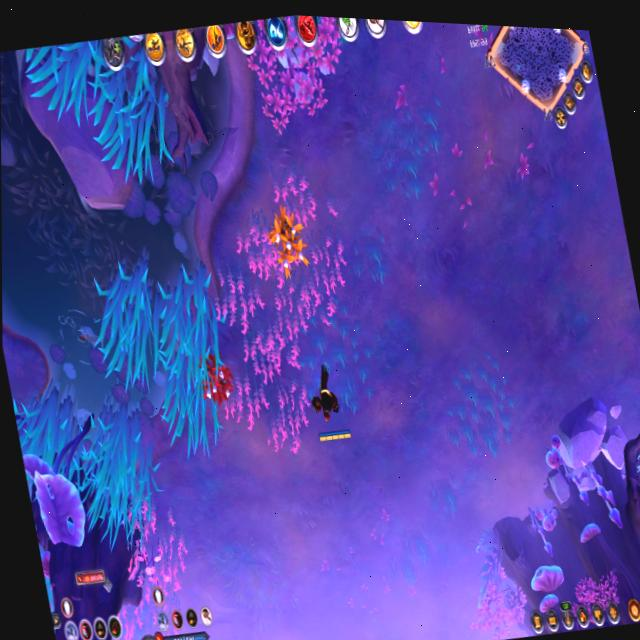hide: (249, 194, 324, 295), (185, 337, 246, 420)
red: (299, 353, 358, 455)
